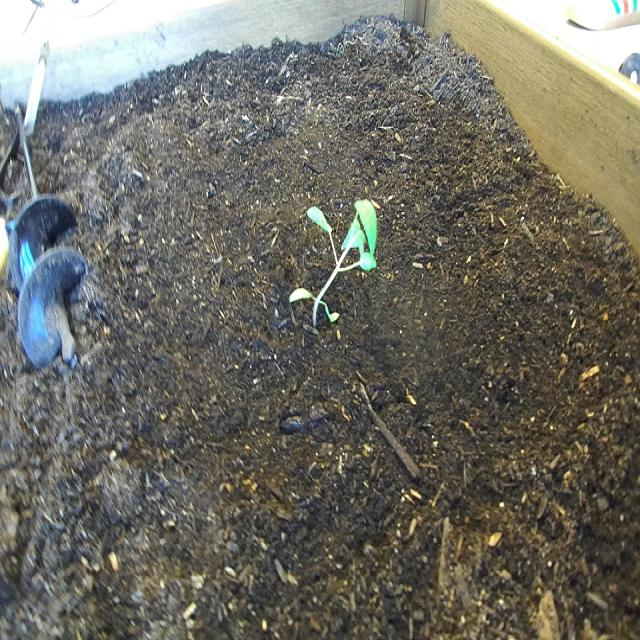Healthy: (276, 181, 389, 341)
